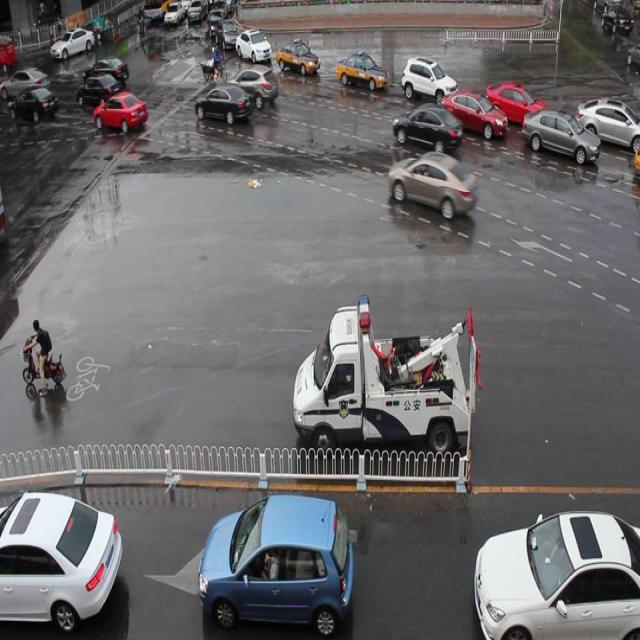bus: (292, 294, 480, 467)
car: (198, 489, 357, 640), (472, 507, 640, 639), (1, 490, 123, 634), (389, 148, 476, 221), (520, 105, 600, 166), (393, 101, 463, 156), (440, 87, 508, 142), (572, 94, 640, 149), (483, 74, 548, 129), (401, 50, 456, 108), (335, 46, 390, 100), (94, 87, 149, 137), (193, 84, 253, 128), (228, 65, 280, 113), (274, 37, 322, 79), (234, 24, 273, 66), (217, 19, 239, 53)
